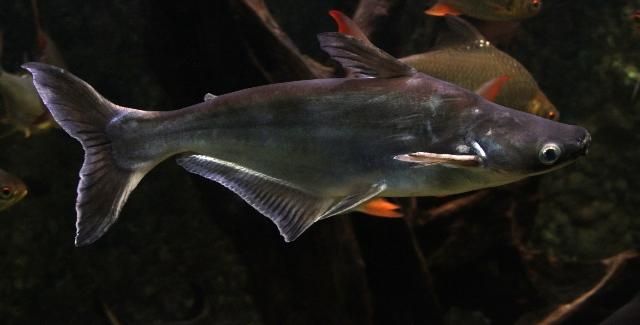Mulut: (556, 112, 604, 172)
Sirip Anal: (172, 147, 331, 253)
Sirip Dada: (390, 138, 482, 176)
Sirip Ekor: (19, 52, 154, 256)
Sirip Perut: (321, 168, 393, 228)
Sirip Punggung: (313, 22, 425, 90)
